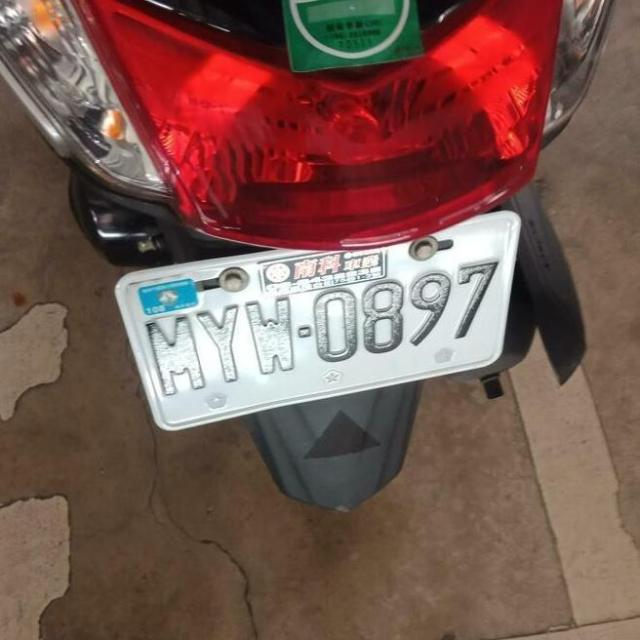W: (104, 204, 536, 445)
